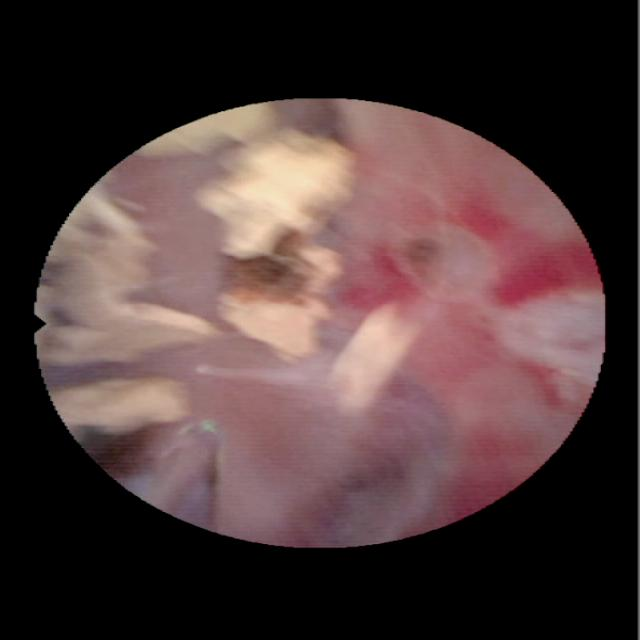stone: (141, 110, 349, 355), (45, 189, 217, 363), (331, 305, 419, 409), (58, 374, 186, 432)
tissue: (176, 110, 589, 539)
